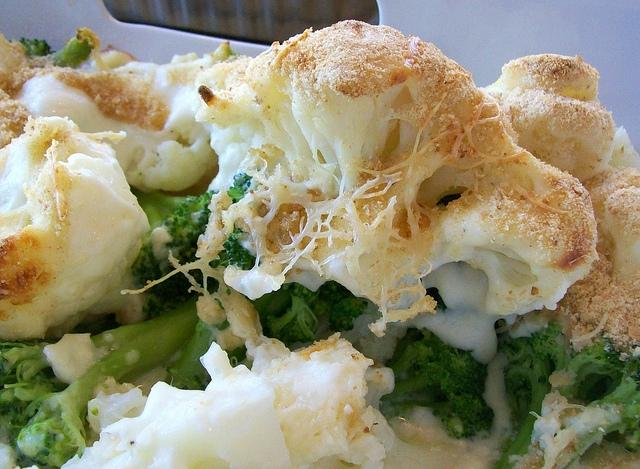broccoli: (10, 293, 204, 469), (533, 322, 640, 452), (130, 174, 252, 288), (379, 327, 495, 442), (495, 336, 555, 469), (164, 318, 213, 390), (17, 27, 99, 69), (266, 293, 320, 340), (208, 228, 260, 270), (282, 282, 331, 315)
cauliflower: (119, 22, 600, 337), (1, 115, 151, 343), (59, 341, 294, 469), (478, 54, 616, 183), (544, 164, 638, 352), (262, 331, 386, 468)
